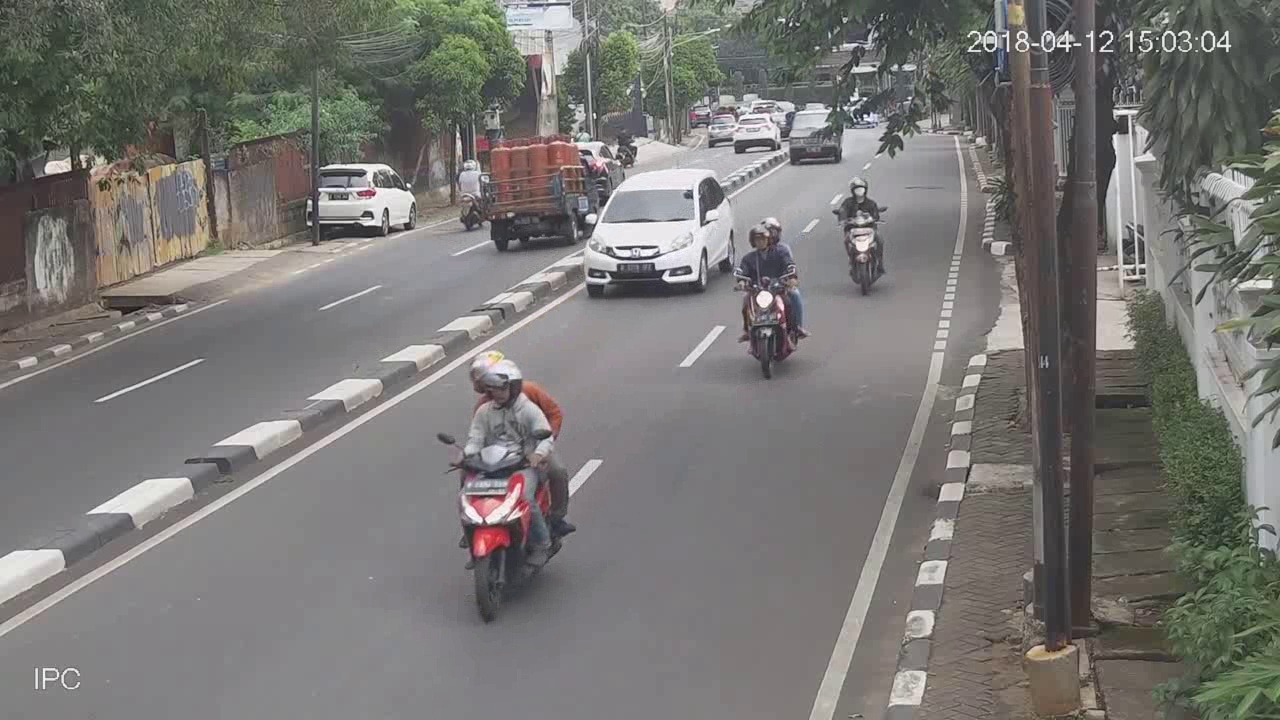car: (587, 169, 737, 296), (304, 157, 422, 245), (792, 107, 842, 166), (731, 111, 782, 155), (707, 114, 735, 145)
motorcycle: (435, 349, 582, 620), (735, 215, 811, 385), (834, 172, 891, 296), (454, 157, 484, 232)
truck: (487, 138, 588, 246)
